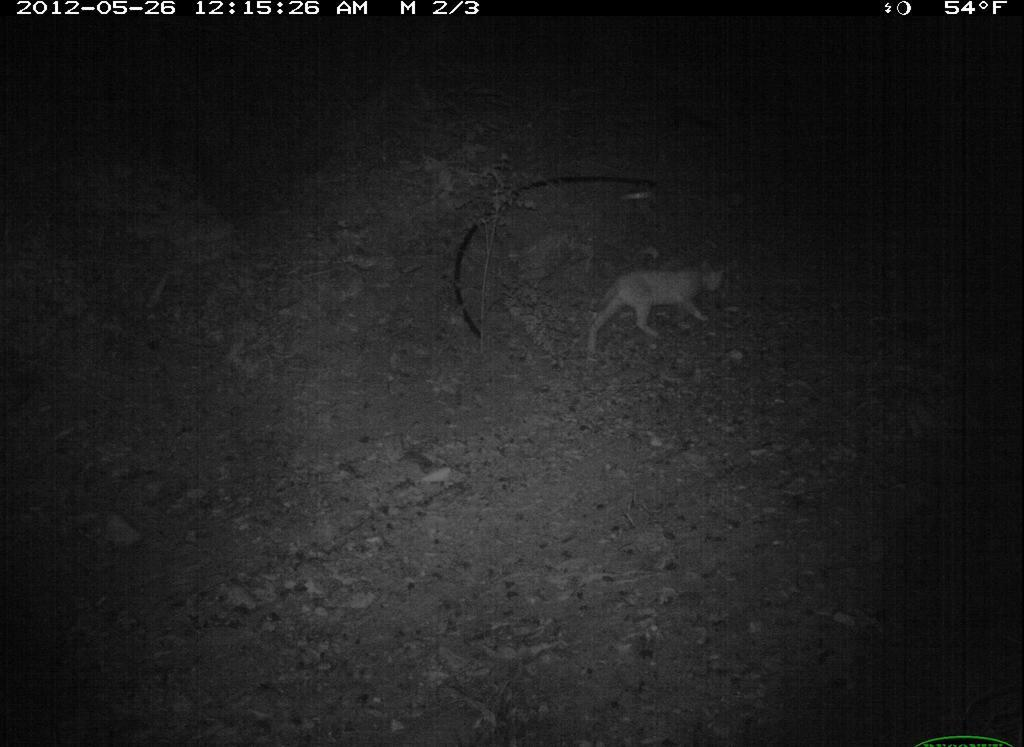cat: (579, 258, 731, 356)
